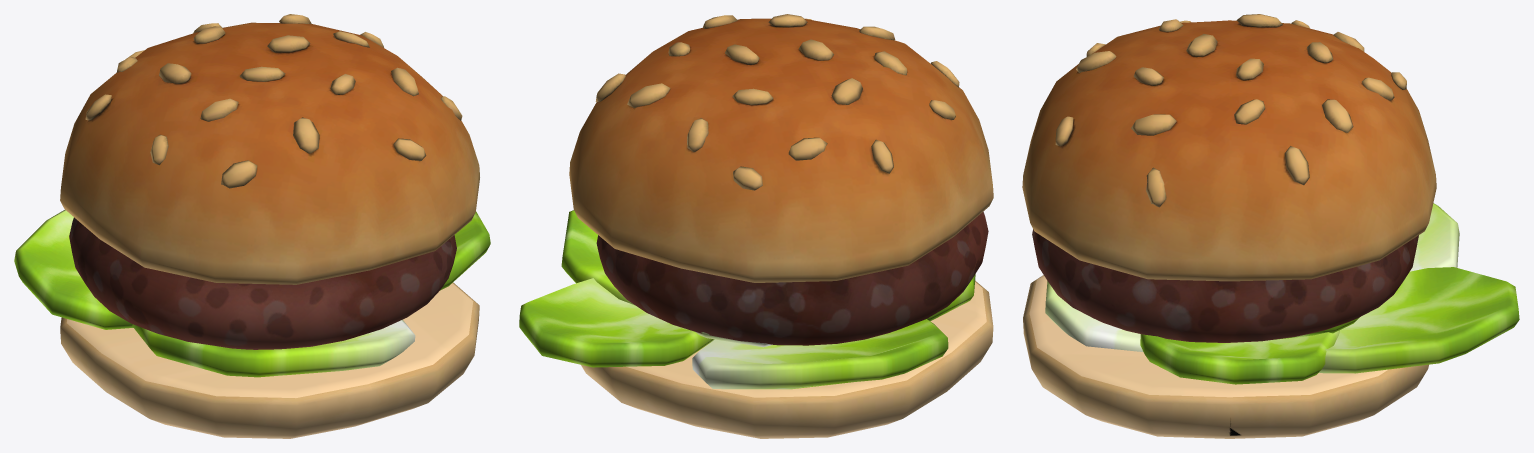
The model's file is Lettuce_plain_burger.fbx.
The picture shows the model from 3 angles, left to right: view 1: azimuth 30°, elevation 25°; view 2: azimuth 150°, elevation 25°; view 3: azimuth 270°, elevation 25°; orthographic projection.
Parts seen in each view (by area): view 1: m_ingredients_bun_lid_01_0, m_ingredients_bun_base_01_0, m_recipe_cheese_lettuce_burger_01_0, m_recipe_cheese_lettuce_burger_01_3; view 2: m_ingredients_bun_lid_01_0, m_recipe_cheese_lettuce_burger_01_3, m_recipe_cheese_lettuce_burger_01_0, m_ingredients_bun_base_01_0; view 3: m_ingredients_bun_lid_01_0, m_recipe_cheese_lettuce_burger_01_3, m_ingredients_bun_base_01_0, m_recipe_cheese_lettuce_burger_01_0.
Boxes of the visible parts, left/top/right/bottom form: m_ingredients_bun_lid_01_0: left=60, top=14, right=479, bottom=284; m_ingredients_bun_base_01_0: left=60, top=282, right=479, bottom=438; m_recipe_cheese_lettuce_burger_01_0: left=69, top=217, right=456, bottom=349; m_recipe_cheese_lettuce_burger_01_3: left=14, top=210, right=490, bottom=377; m_ingredients_bun_lid_01_0: left=569, top=14, right=993, bottom=282; m_recipe_cheese_lettuce_burger_01_3: left=519, top=210, right=975, bottom=389; m_recipe_cheese_lettuce_burger_01_0: left=596, top=211, right=988, bottom=345; m_ingredients_bun_base_01_0: left=581, top=281, right=993, bottom=438; m_ingredients_bun_lid_01_0: left=1022, top=14, right=1436, bottom=281; m_recipe_cheese_lettuce_burger_01_3: left=1045, top=203, right=1519, bottom=384; m_ingredients_bun_base_01_0: left=1023, top=275, right=1428, bottom=438; m_recipe_cheese_lettuce_burger_01_0: left=1032, top=229, right=1418, bottom=342.
Size of the model in its own units: 0.7104 by 0.5285 by 0.749.
